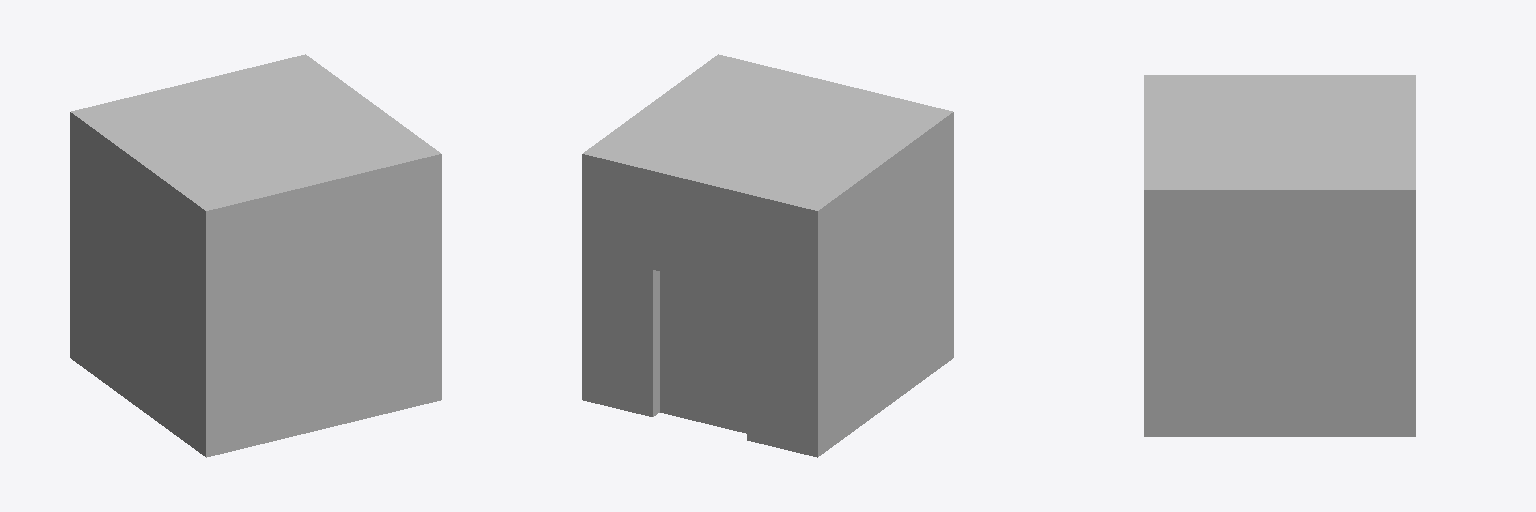
The model's file is wall-fortified-door.obj.
3 renders of one model, left to right at view 1: azimuth 30°, elevation 25°; view 2: azimuth 150°, elevation 25°; view 3: azimuth 270°, elevation 25°, orthographic.
Visible parts, largest first — view 1: wall-fortified-door; view 2: wall-fortified-door; view 3: wall-fortified-door.
Part boxes in pixels (bbox=[...]): wall-fortified-door: bbox=[70, 54, 441, 457]; wall-fortified-door: bbox=[582, 54, 953, 457]; wall-fortified-door: bbox=[1144, 75, 1415, 436].
Size of the model in its own units: 1 by 1 by 1.